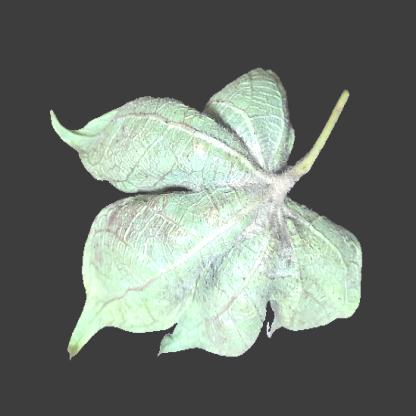curl_stage2: (203, 143, 254, 341), (140, 110, 204, 184), (301, 232, 351, 320), (87, 259, 133, 328), (167, 196, 206, 270), (239, 85, 283, 127)
sooty: (249, 177, 302, 276), (118, 207, 175, 291)
